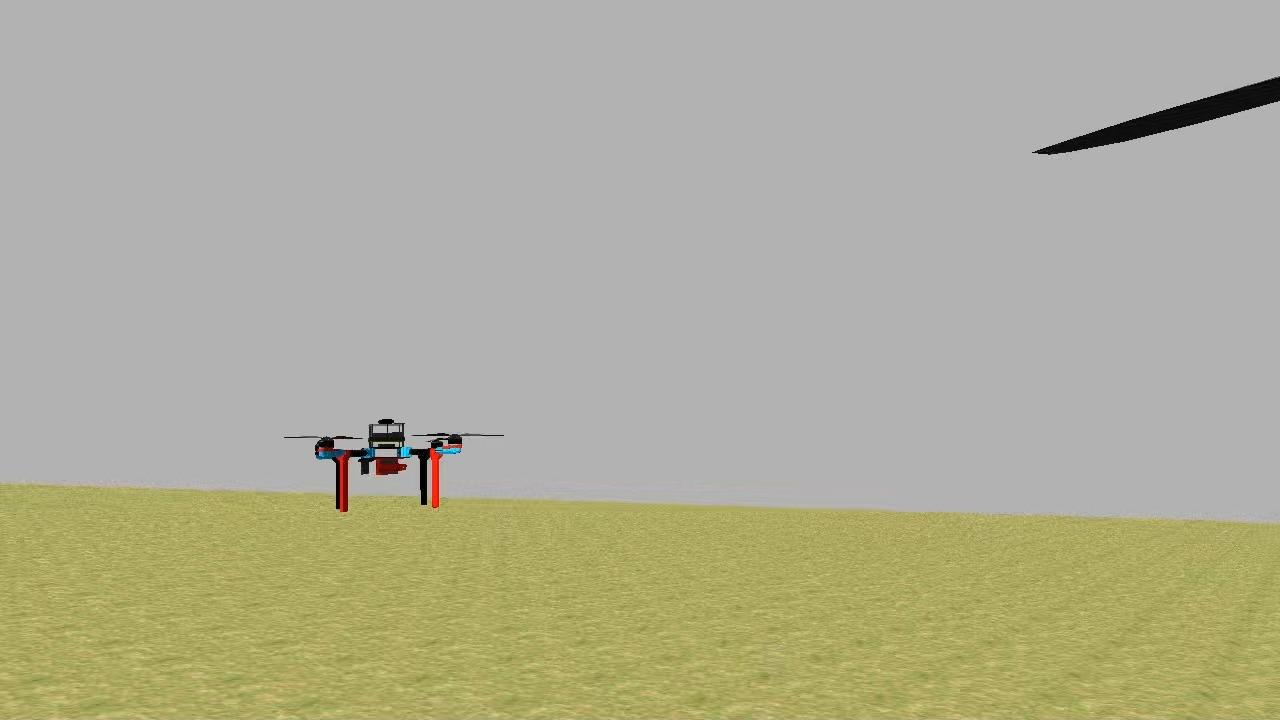UAV: (310, 416, 472, 514)
